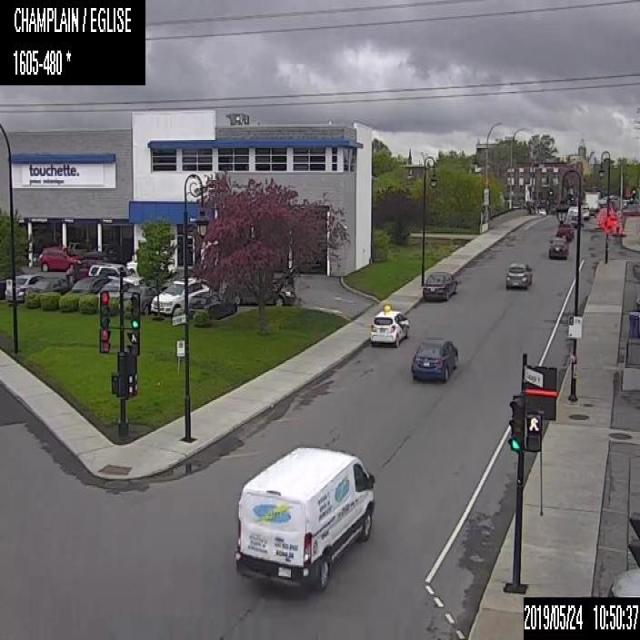construction: (601, 213, 614, 235), (618, 220, 622, 235)
pedestrian: (74, 259, 80, 279), (66, 263, 72, 279)
vehicle: (233, 445, 374, 592), (150, 276, 208, 314), (411, 338, 458, 382), (232, 277, 296, 305), (369, 304, 408, 347), (188, 289, 237, 318), (88, 261, 145, 285), (4, 272, 43, 300), (126, 255, 174, 277), (38, 245, 80, 269), (26, 276, 73, 297), (423, 269, 455, 299), (608, 566, 639, 596), (124, 285, 157, 313), (0, 267, 25, 297), (505, 260, 530, 288), (72, 274, 110, 292), (97, 278, 131, 298), (70, 258, 100, 280), (582, 190, 600, 216), (548, 234, 568, 257), (556, 221, 573, 240), (566, 205, 582, 225), (579, 203, 589, 218)
